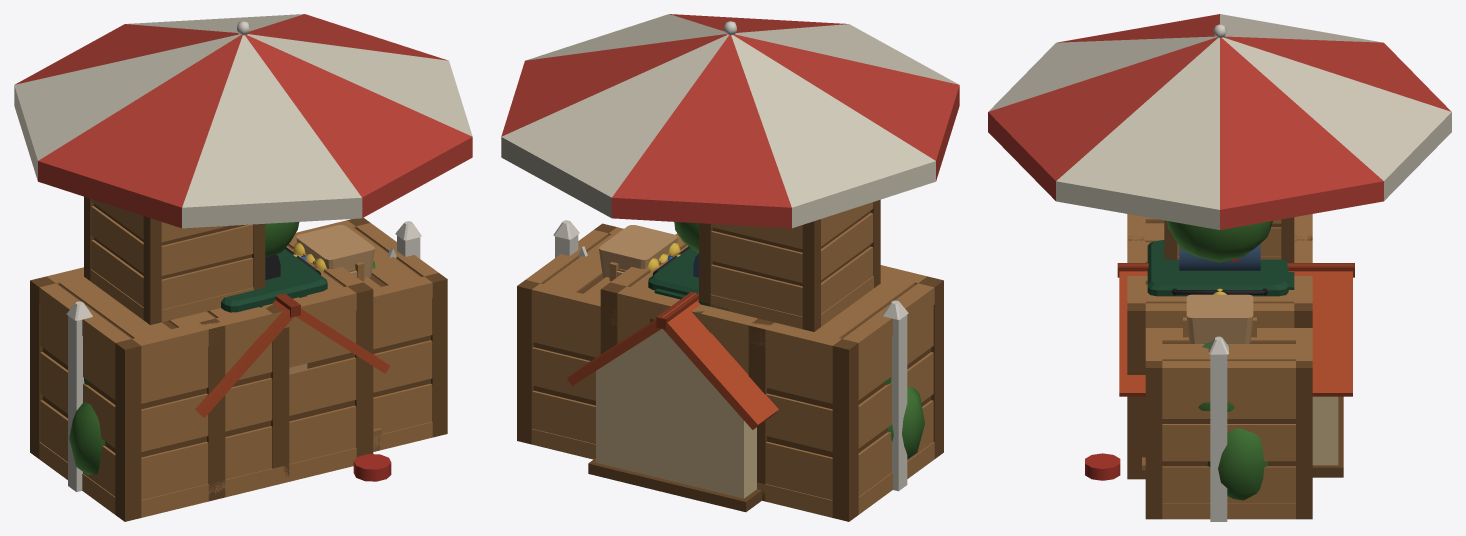
Rendered from yard-kit.glb.
3 renders of one model, left to right at view 1: azimuth 30°, elevation 25°; view 2: azimuth 150°, elevation 25°; view 3: azimuth 270°, elevation 25°, orthographic. The views are drawn at different scales.
Visible parts, largest first — view 1: Yard_CafeSet, Yard_CrateStack, Yard_Crate, Yard_Doghouse, Yard_PicketFence, Yard_WheelieBin, Yard_Bicycle, Yard_Hedge, Yard_Topiary, Yard_FruitCrates; view 2: Yard_CafeSet, Yard_CrateStack, Yard_Doghouse, Yard_Crate, Yard_PicketFence, Yard_Bicycle, Yard_WheelieBin, Yard_Hedge, Yard_Topiary, Yard_FruitCrates; view 3: Yard_CafeSet, Yard_CrateStack, Yard_Doghouse, Yard_Crate, Yard_WheelieBin, Yard_Bicycle, Yard_PicketFence, Yard_Hedge, Yard_Topiary, Yard_Mailbox.
Part boxes in pixels (bbox=[...]): Yard_CafeSet: bbox=[14, 14, 472, 228]; Yard_CrateStack: bbox=[30, 196, 447, 521]; Yard_Crate: bbox=[190, 233, 373, 501]; Yard_Doghouse: bbox=[195, 293, 391, 481]; Yard_PicketFence: bbox=[66, 221, 421, 491]; Yard_WheelieBin: bbox=[221, 249, 327, 312]; Yard_Bicycle: bbox=[285, 225, 374, 277]; Yard_Hedge: bbox=[69, 261, 375, 475]; Yard_Topiary: bbox=[263, 222, 299, 257]; Yard_FruitCrates: bbox=[293, 243, 364, 281]; Yard_CafeSet: bbox=[501, 14, 959, 228]; Yard_CrateStack: bbox=[517, 199, 943, 521]; Yard_Doghouse: bbox=[567, 292, 778, 512]; Yard_Crate: bbox=[600, 233, 774, 501]; Yard_PicketFence: bbox=[553, 220, 908, 491]; Yard_Bicycle: bbox=[599, 225, 690, 277]; Yard_WheelieBin: bbox=[648, 248, 729, 310]; Yard_Hedge: bbox=[884, 377, 924, 459]; Yard_Topiary: bbox=[674, 222, 698, 252]; Yard_FruitCrates: bbox=[609, 243, 680, 281]; Yard_CafeSet: bbox=[988, 14, 1451, 229]; Yard_CrateStack: bbox=[1127, 214, 1312, 519]; Yard_Doghouse: bbox=[1085, 263, 1354, 480]; Yard_Crate: bbox=[1127, 232, 1312, 479]; Yard_WheelieBin: bbox=[1147, 240, 1294, 296]; Yard_Bicycle: bbox=[1171, 288, 1268, 343]; Yard_PicketFence: bbox=[1208, 336, 1228, 521]; Yard_Hedge: bbox=[1198, 342, 1267, 500]; Yard_Topiary: bbox=[1166, 221, 1272, 262]; Yard_Mailbox: bbox=[1179, 244, 1260, 270].
Bounding box in the file's own units: 2.5 × 2.47 × 2.5.
